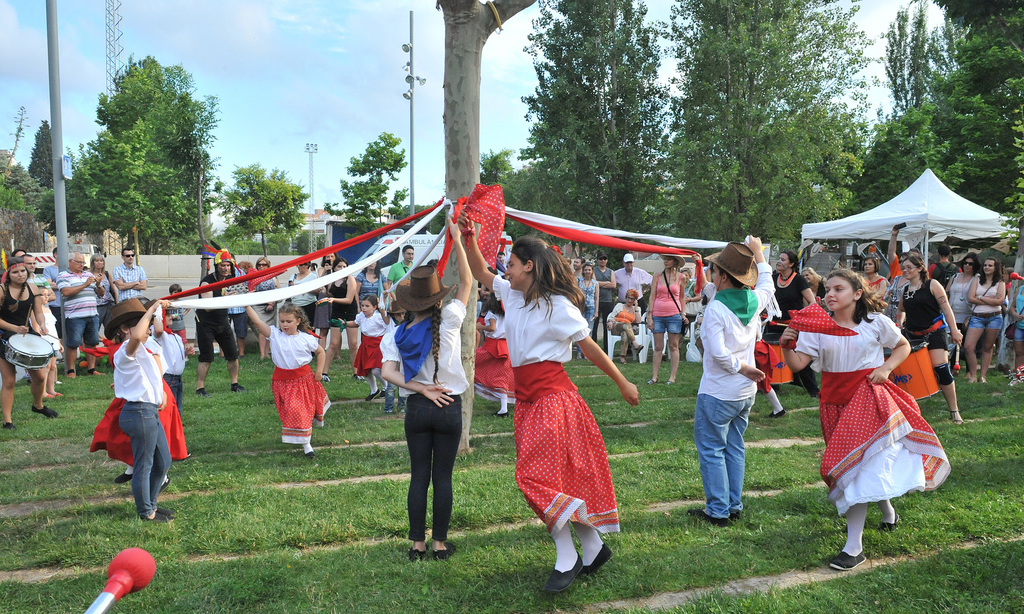Person: (0, 204, 1024, 592)
